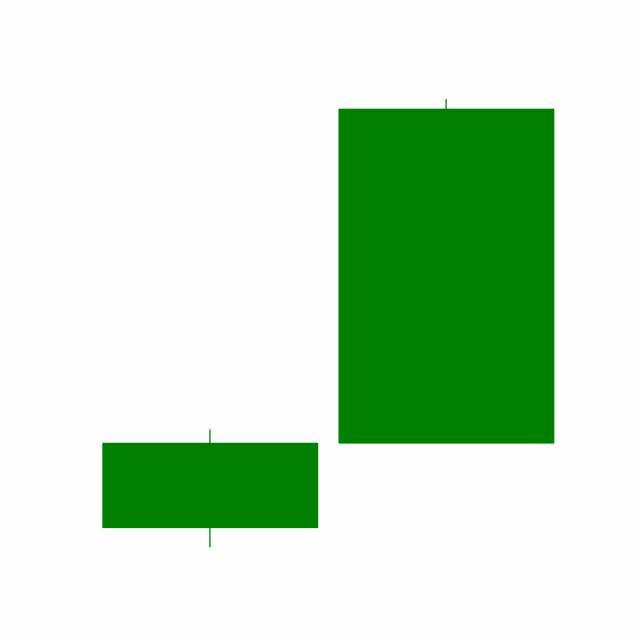Marubozu: (328, 97, 566, 449)
